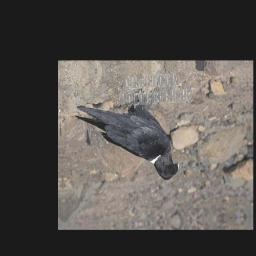Crow: (73, 83, 183, 187)
